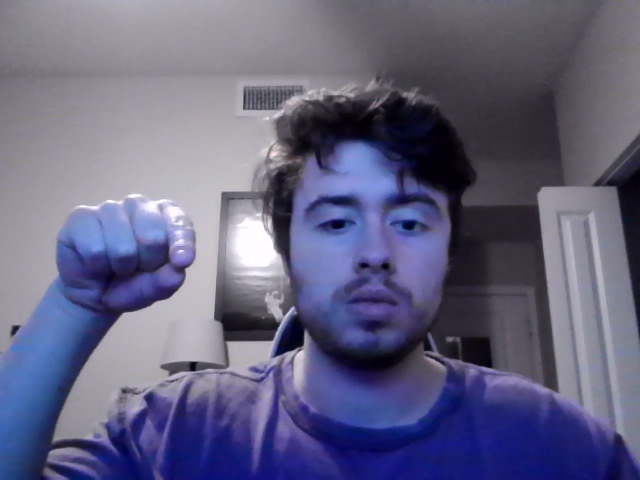q: (53, 191, 197, 328)
